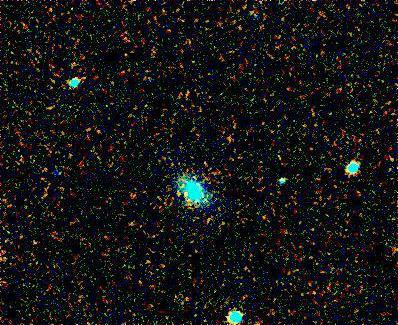star: (168, 181, 198, 211)
